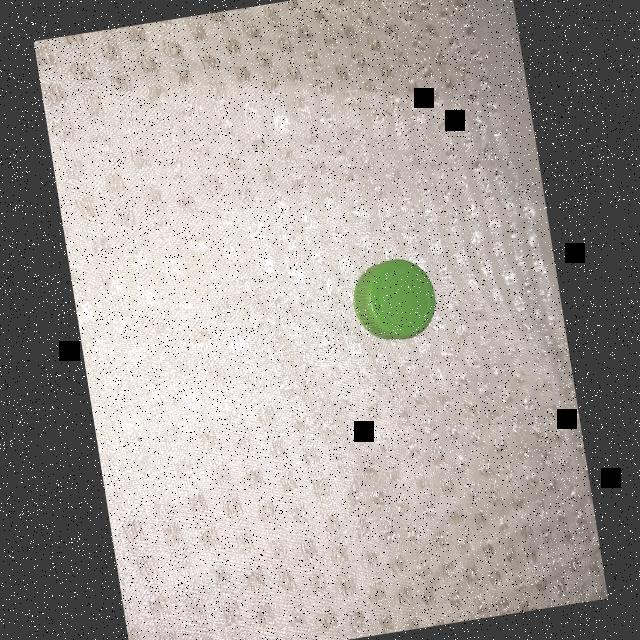plastic_bottle_cap: (348, 254, 440, 346)
